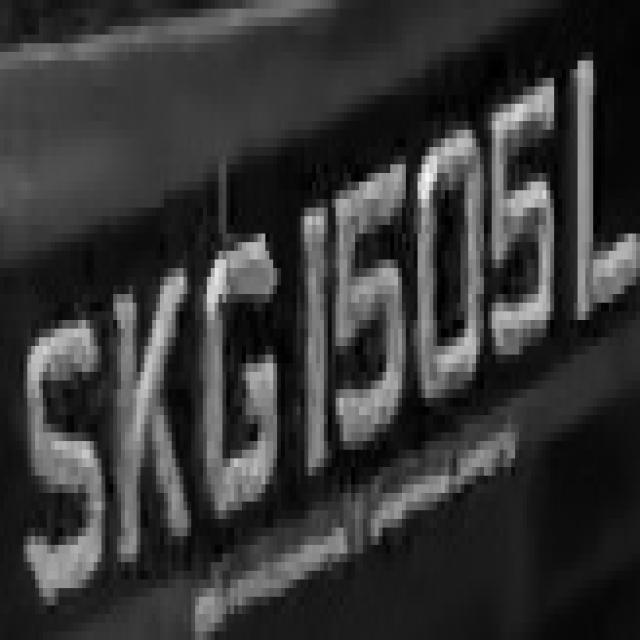0: (410, 86, 484, 406)
1: (292, 156, 336, 510)
5: (324, 147, 414, 467), (476, 69, 562, 381)
G: (191, 190, 281, 519)
K: (98, 216, 191, 588)
L: (562, 26, 640, 363)
S: (4, 277, 105, 631)
